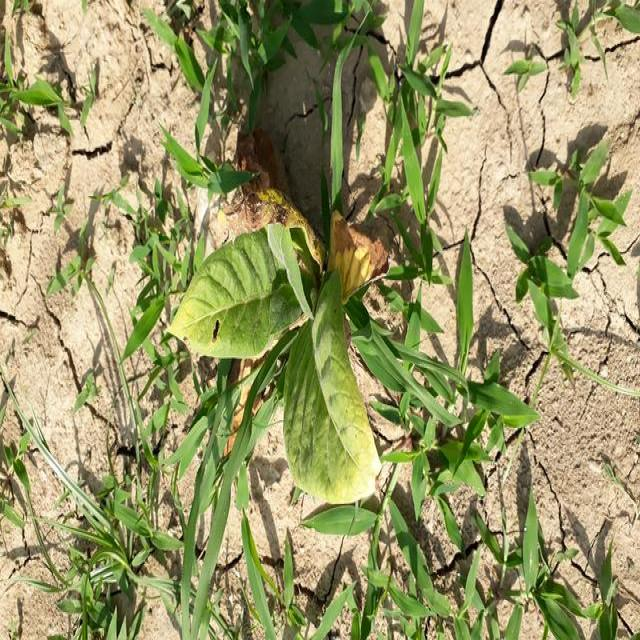crop: (188, 138, 398, 502)
